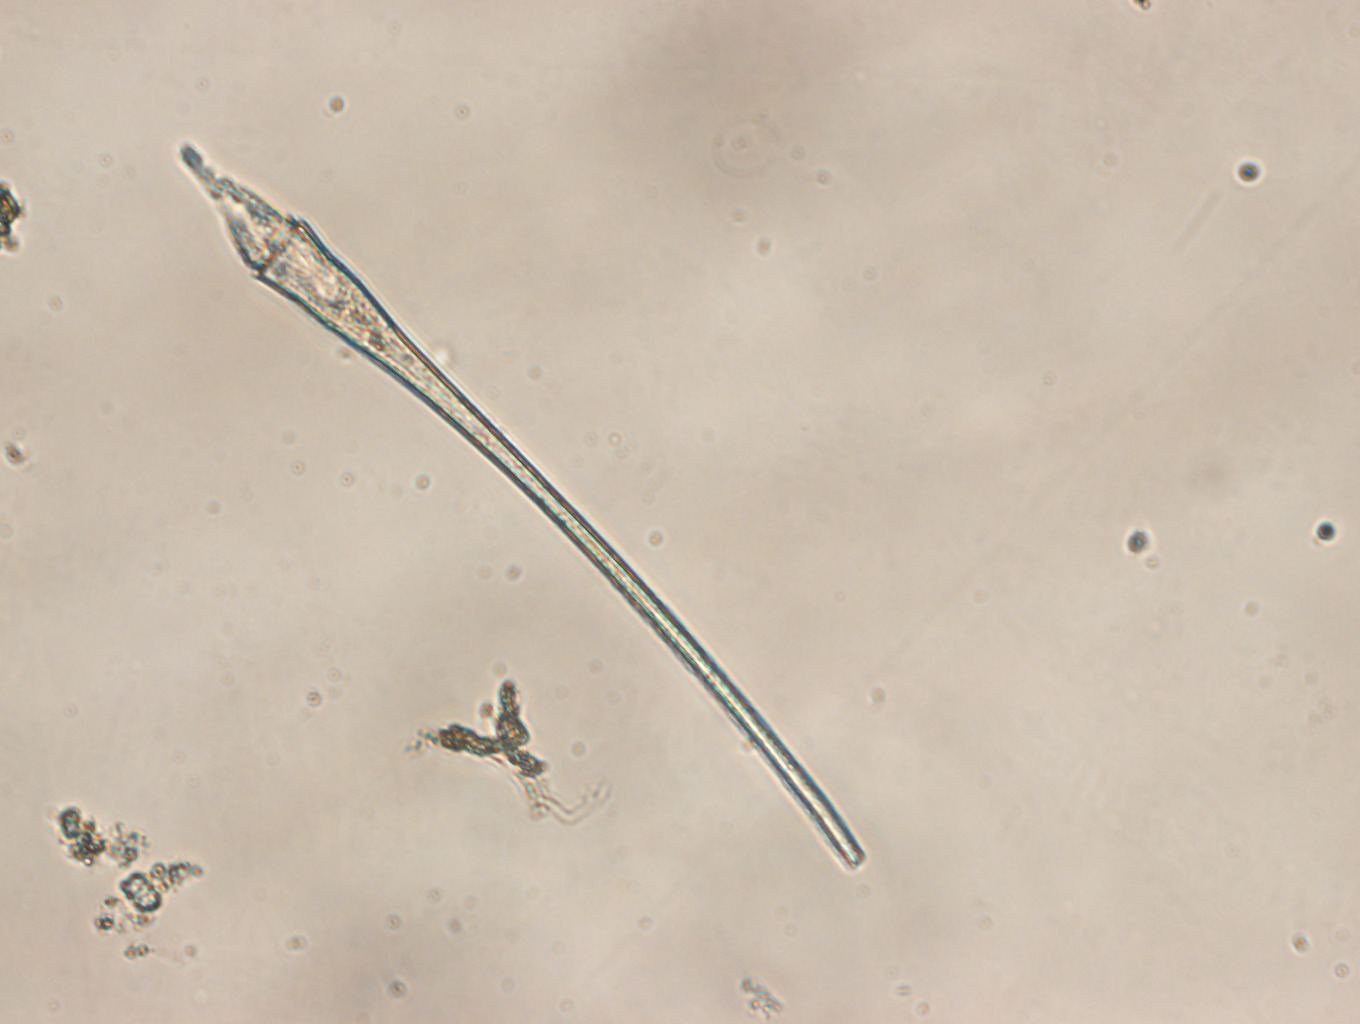ceratium fusus: (178, 143, 867, 867)
